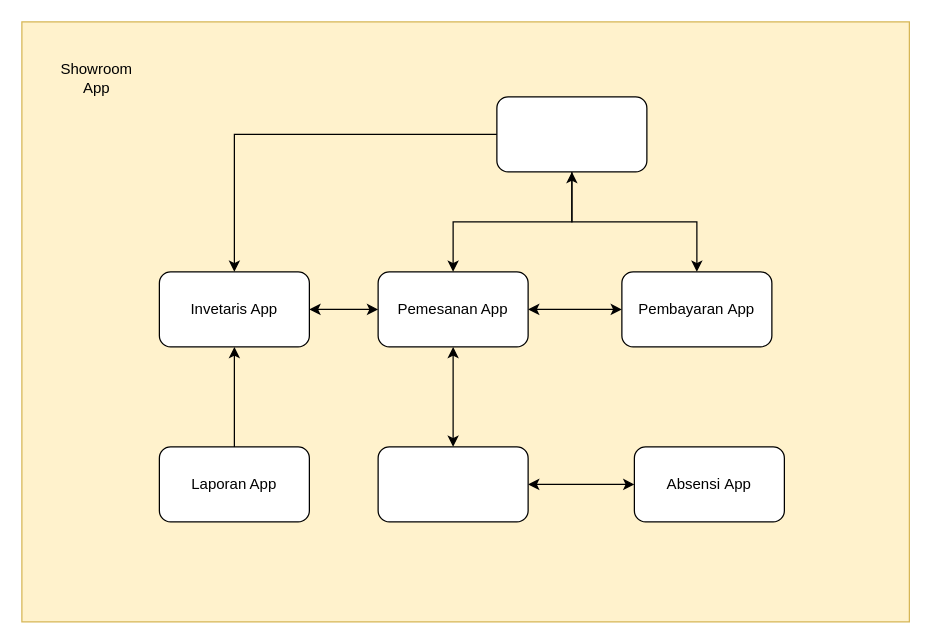
This 931x644 diagram has some shape labels left out. Here are the shapes that lost their labels. From the top down, the centre of each, then its label:
At (x=571, y=134): "CRM App".
At (x=452, y=484): "Karyawan App".
